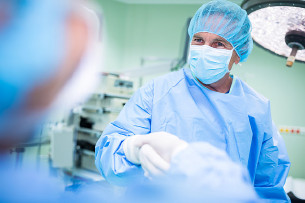face_mask: (187, 21, 237, 83)
